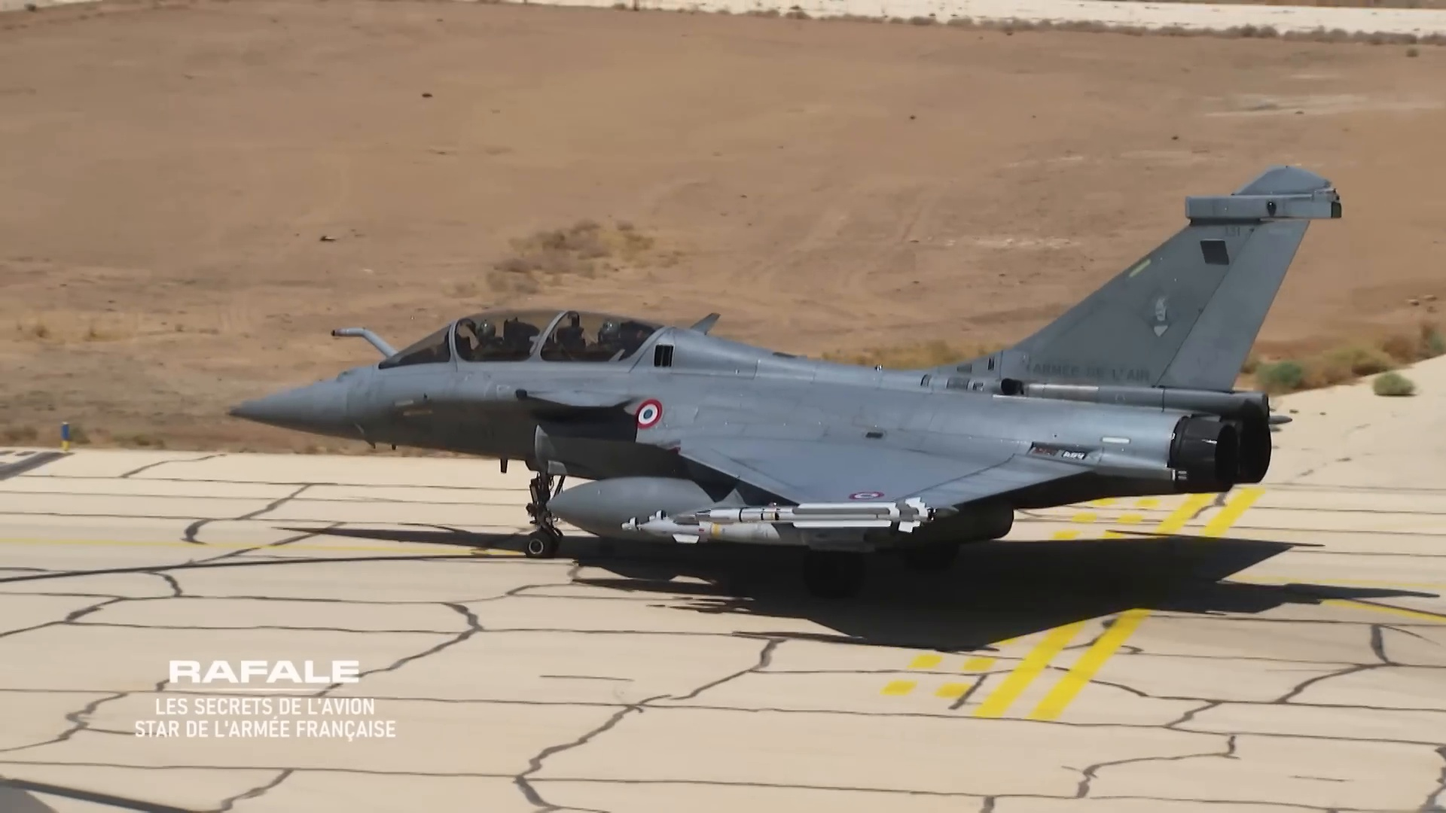Rafale: (217, 158, 1356, 586)
